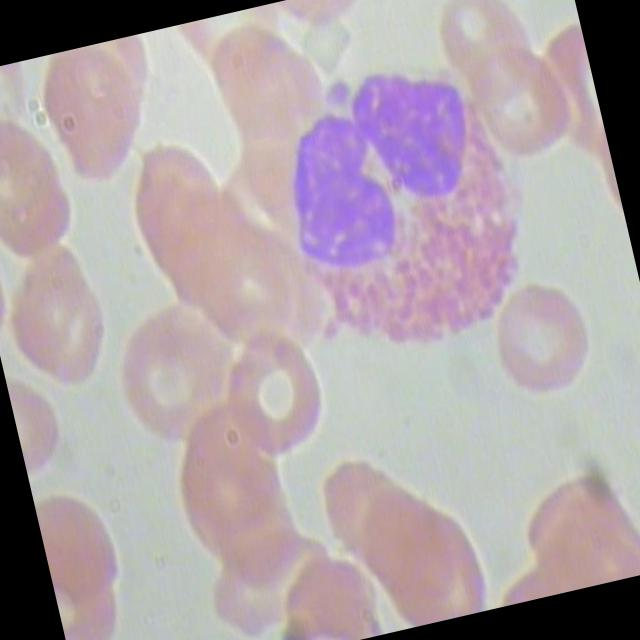RBC: (104, 300, 248, 459), (472, 269, 604, 410), (210, 324, 342, 465), (459, 36, 591, 176), (0, 260, 126, 401), (0, 104, 97, 277), (0, 107, 95, 280), (422, 0, 554, 120)
WBC: (256, 40, 556, 377)
